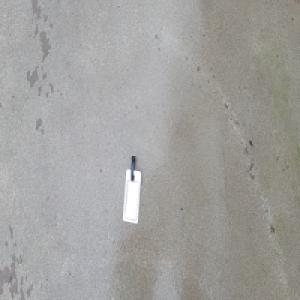LuggageTag: (121, 153, 141, 224)
